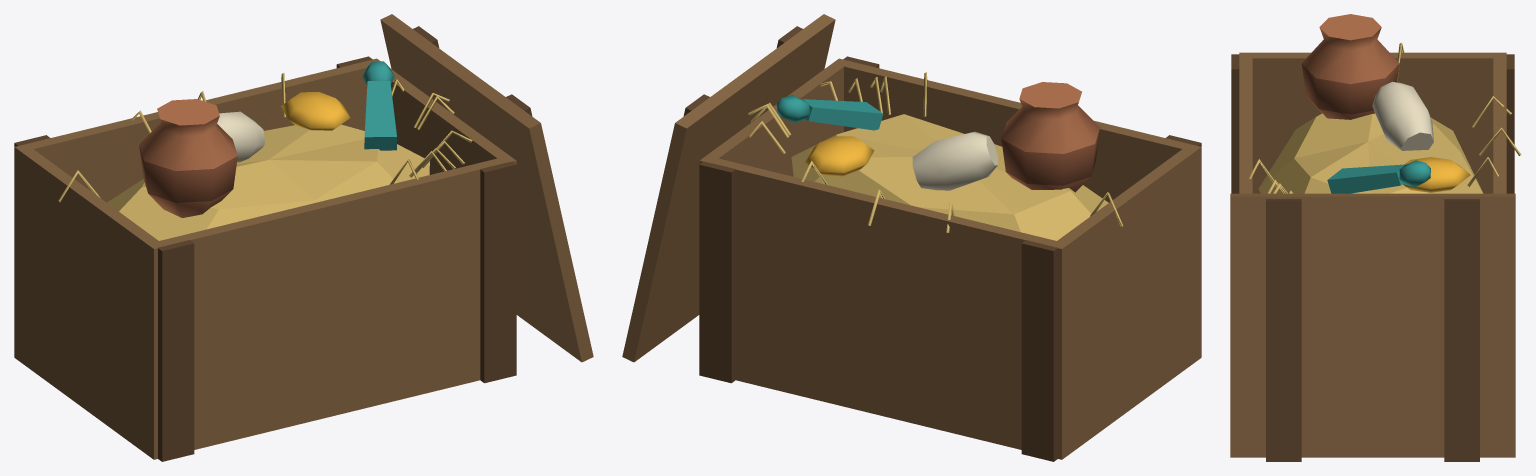
The model's file is crate_finds.glb.
3 views of the same model, side by side, from view 1: azimuth 30°, elevation 25°; view 2: azimuth 150°, elevation 25°; view 3: azimuth 270°, elevation 25° (orthographic). The views are drawn at different scales.
Visible parts, largest first — view 1: crate_finds; view 2: crate_finds; view 3: crate_finds.
Boxes of the visible parts, x1,y1,x2,y2 form: crate_finds: [14, 14, 593, 461]; crate_finds: [622, 14, 1201, 461]; crate_finds: [1230, 14, 1521, 461].
Bounding box in the file's own units: 1.12 × 0.676 × 0.6538.
